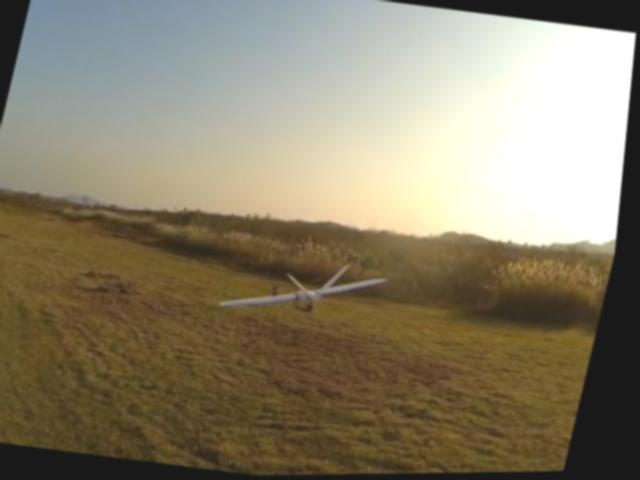uav: (210, 236, 406, 364)
